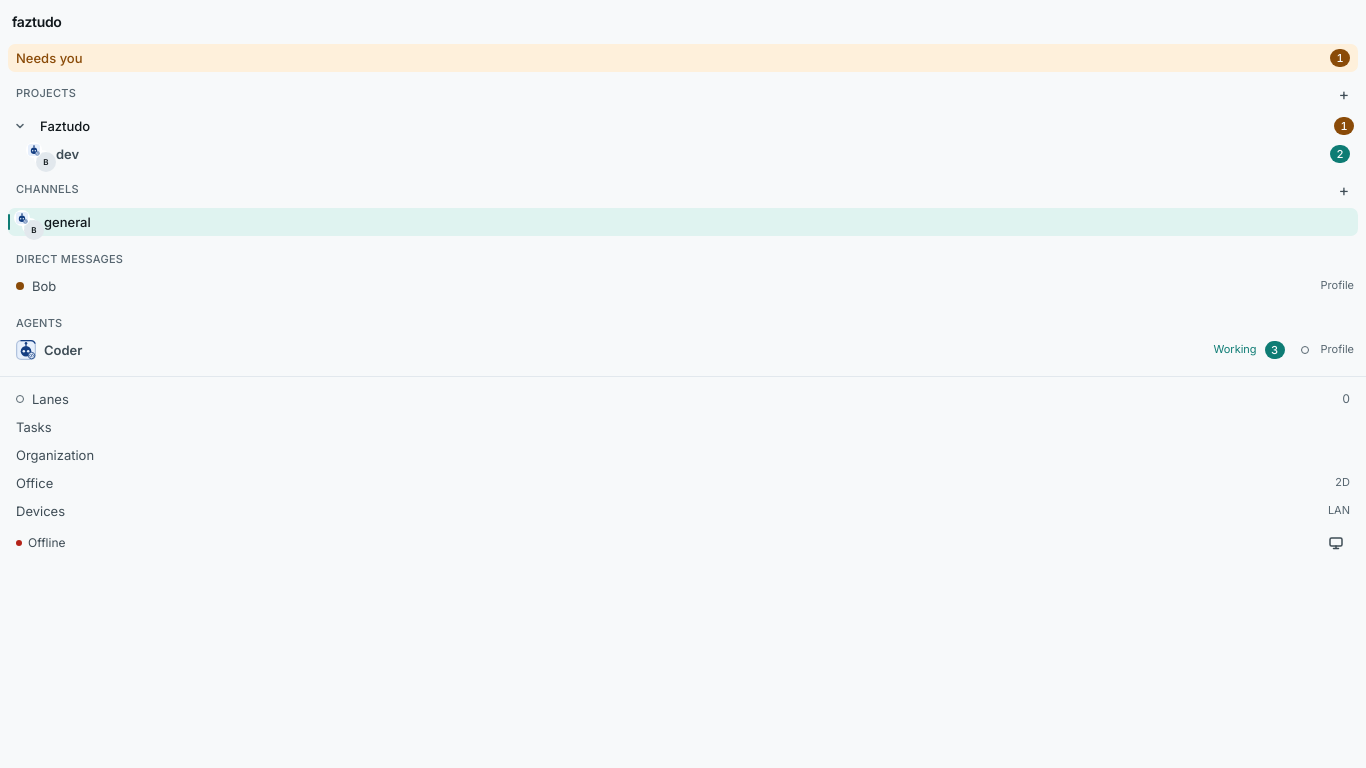
Test: WorkspaceNav › folds a project to one row that keeps the unread and waiting counts
The width and height of the screenshot is (1366, 768).
Check: the text named "1 waiting for you" is shown, box [1334,117,1354,135]
Check: the 1st element with test id "team-icon" is shown, box [28,144,48,164]
What coordinates should you click on to do the following:
click the button named "Collapse Faztudo"
I would click on:
 (20, 126)
Its box is [8,112,32,140].
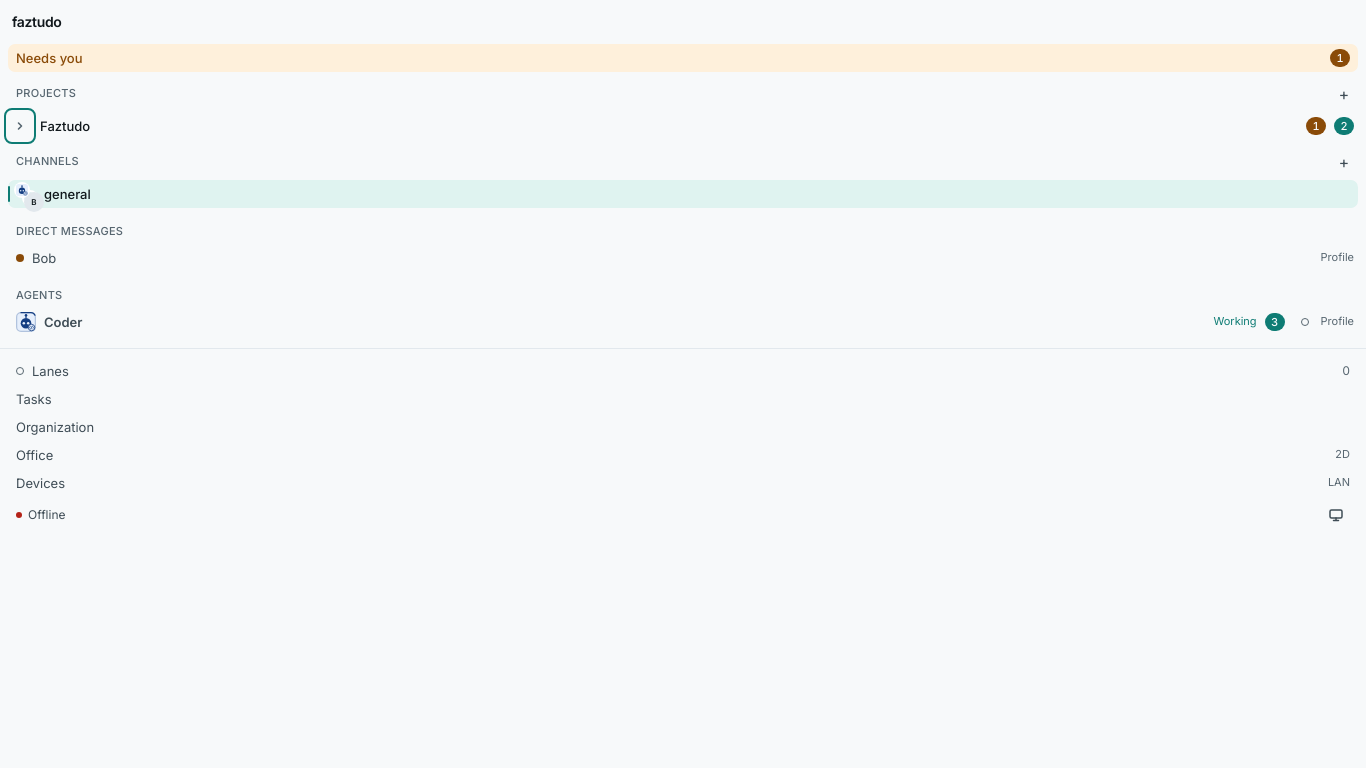
Check: the text named "2 unread" is shown, box [1334,117,1354,135]
Check: the button named "Expand Faztudo" is collapsed, box [8,112,32,140]
